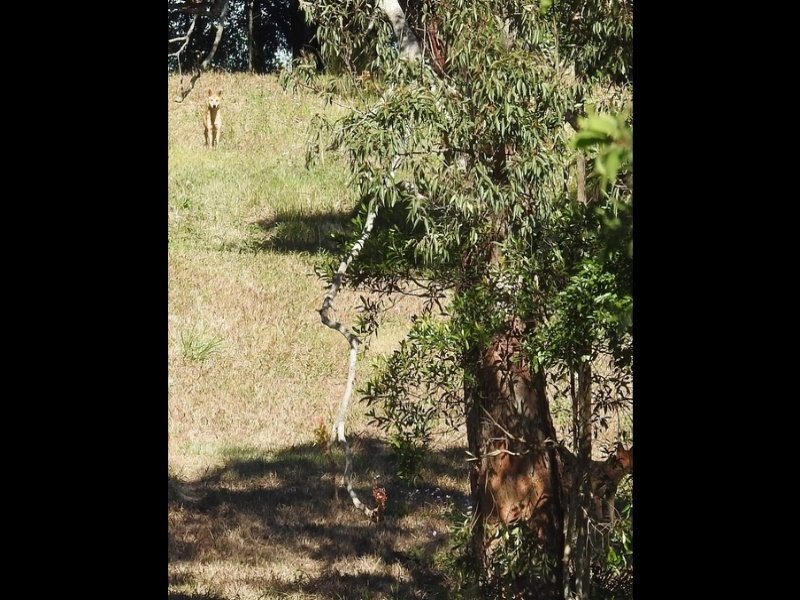dog: (197, 85, 229, 153)
